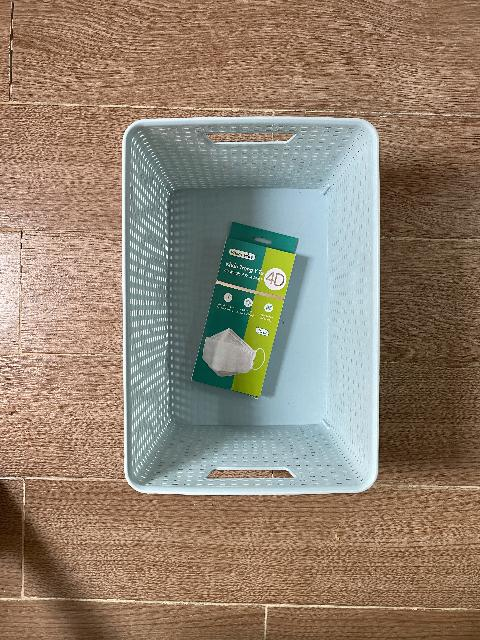4D_medical_face-mask: (191, 222, 299, 399)
cart: (121, 115, 381, 498)
